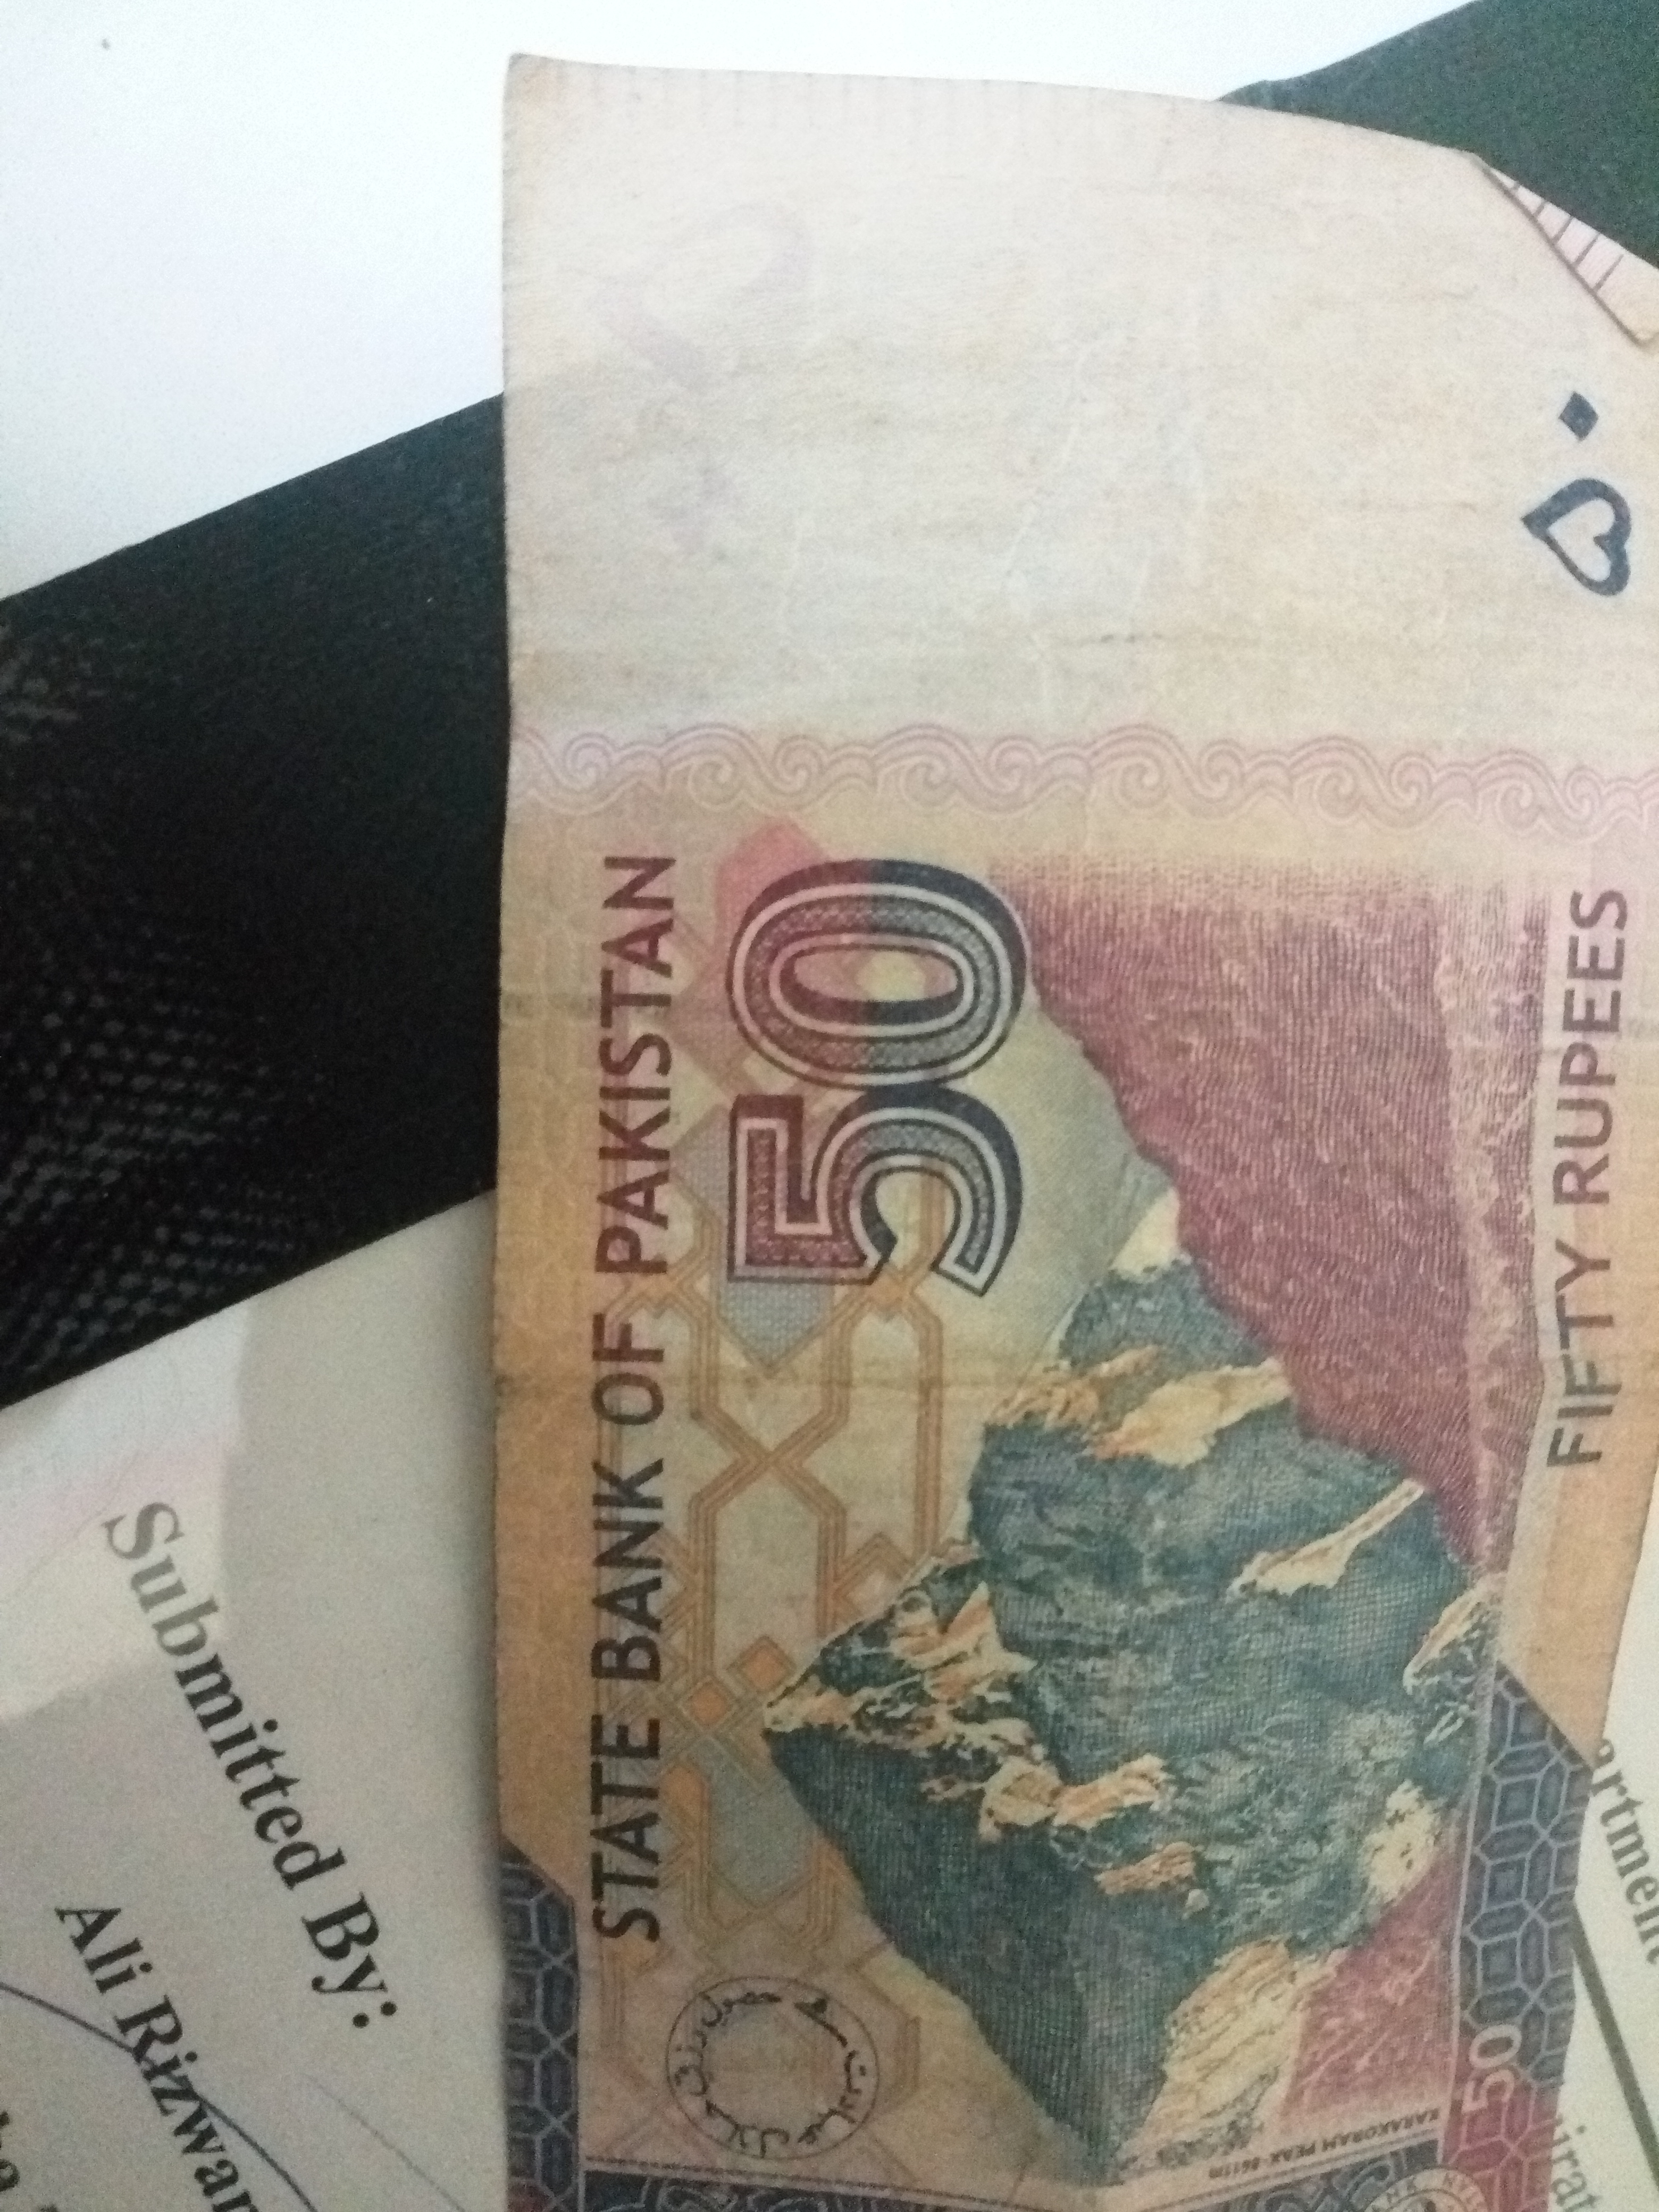50 rupee: (166, 188, 1450, 2113)
